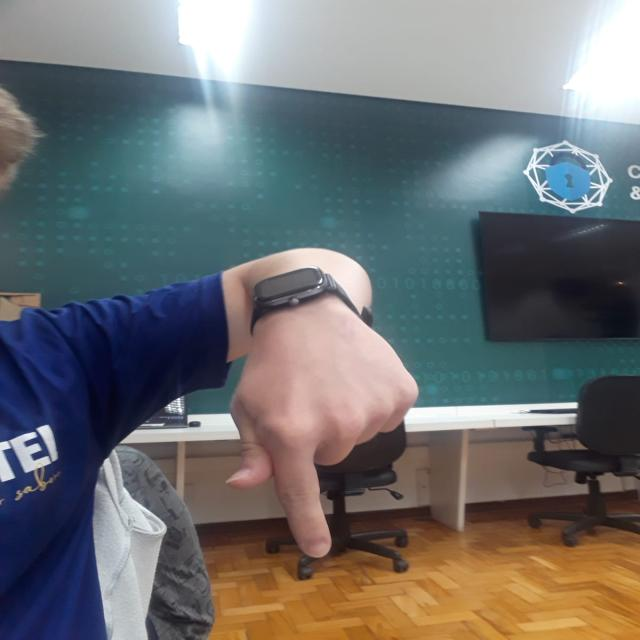Q: (219, 316, 429, 560)
